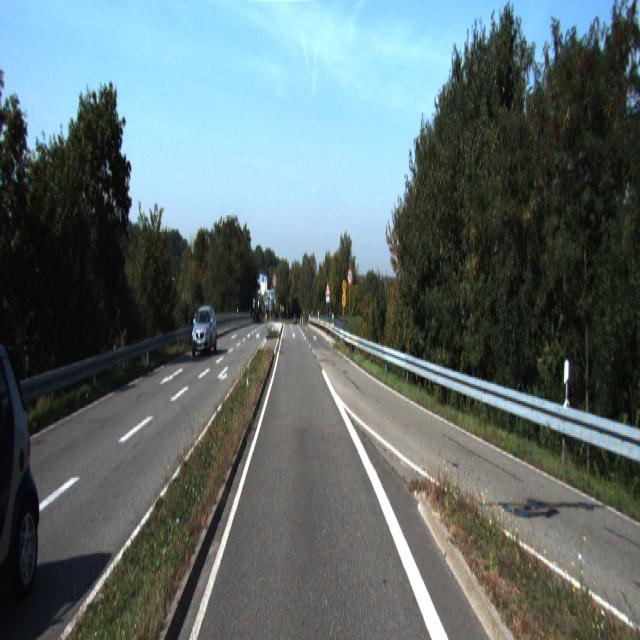Car: (0, 331, 56, 618), (189, 304, 219, 355)
